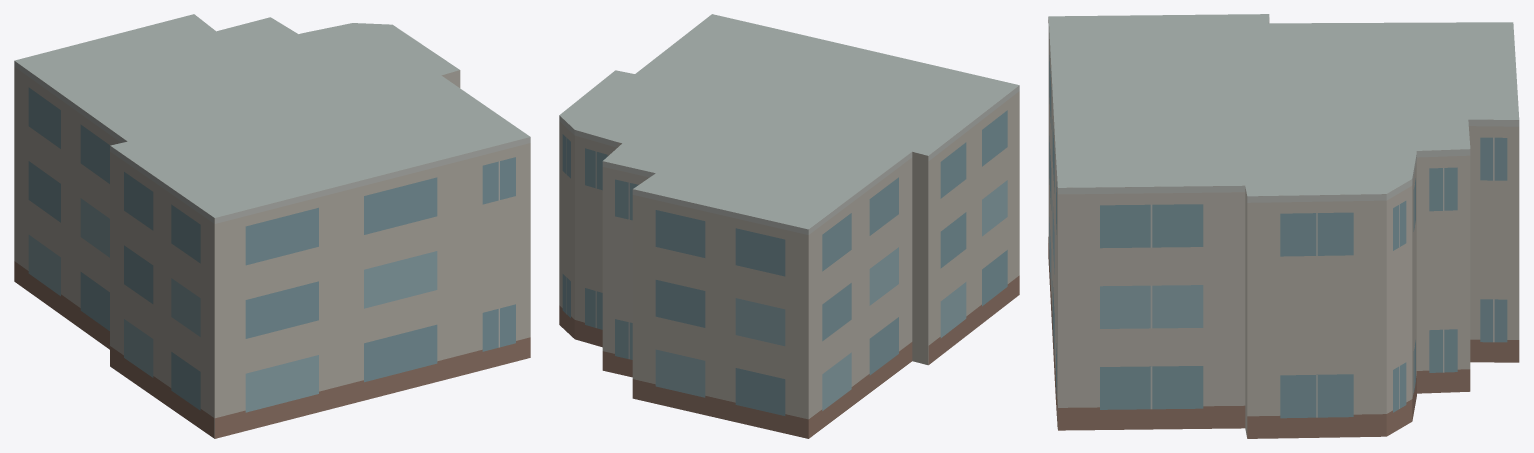
Rendered from survey-upis-32499848.glb.
3 views of the same model, side by side, from view 1: azimuth 30°, elevation 25°; view 2: azimuth 150°, elevation 25°; view 3: azimuth 270°, elevation 25° (orthographic). The views are drawn at different scales.
Visible parts, largest first — view 1: survey-upis-32499848.tmp; view 2: survey-upis-32499848.tmp; view 3: survey-upis-32499848.tmp.
Part boxes in pixels (x1,y1,x2,y2): survey-upis-32499848.tmp: (14,14,530,438); survey-upis-32499848.tmp: (559,14,1019,438); survey-upis-32499848.tmp: (1048,14,1519,438).
Size of the model in its own units: 14.51 by 9 by 15.84.
